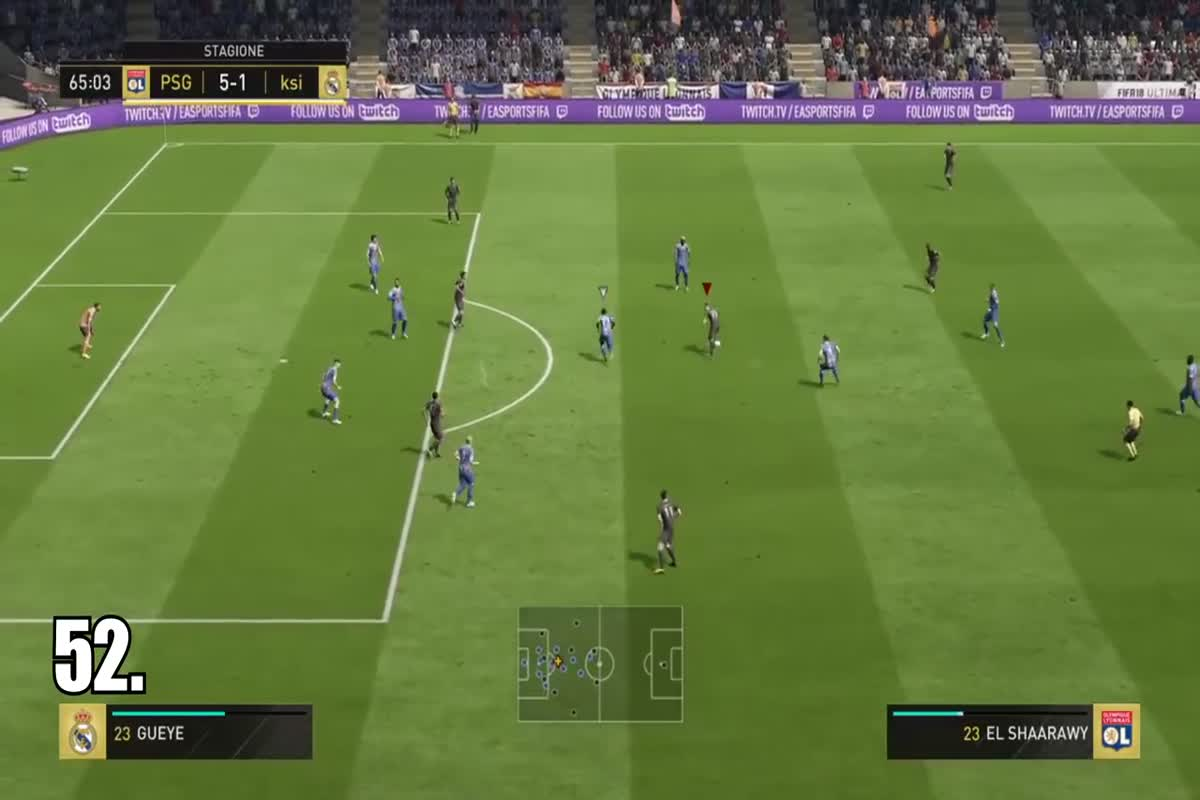ball: (712, 333, 731, 351)
